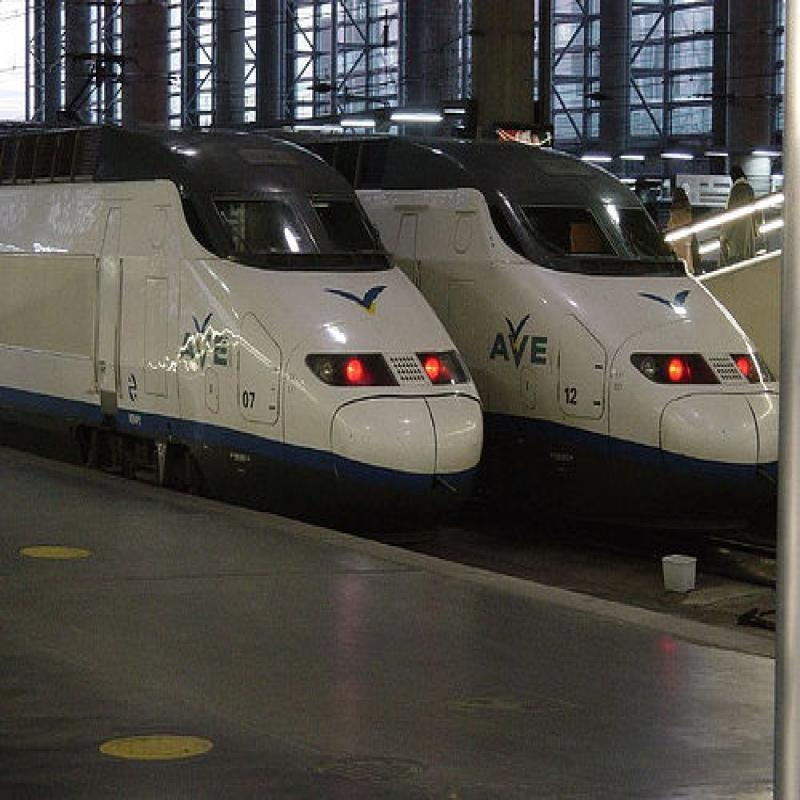train: (1, 47, 799, 551), (1, 119, 486, 550)
